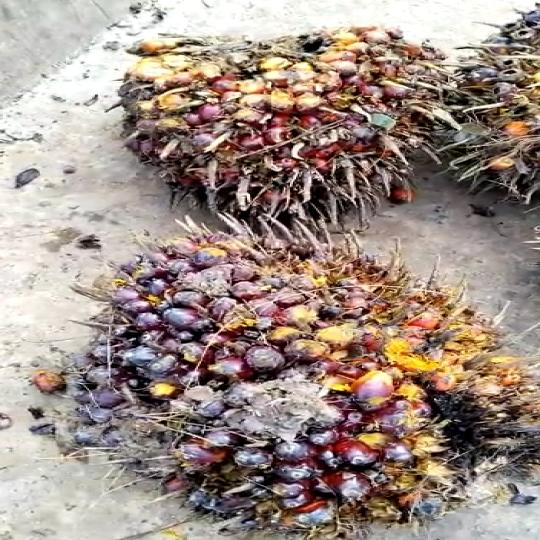masak: (50, 225, 540, 540), (105, 19, 454, 248)
